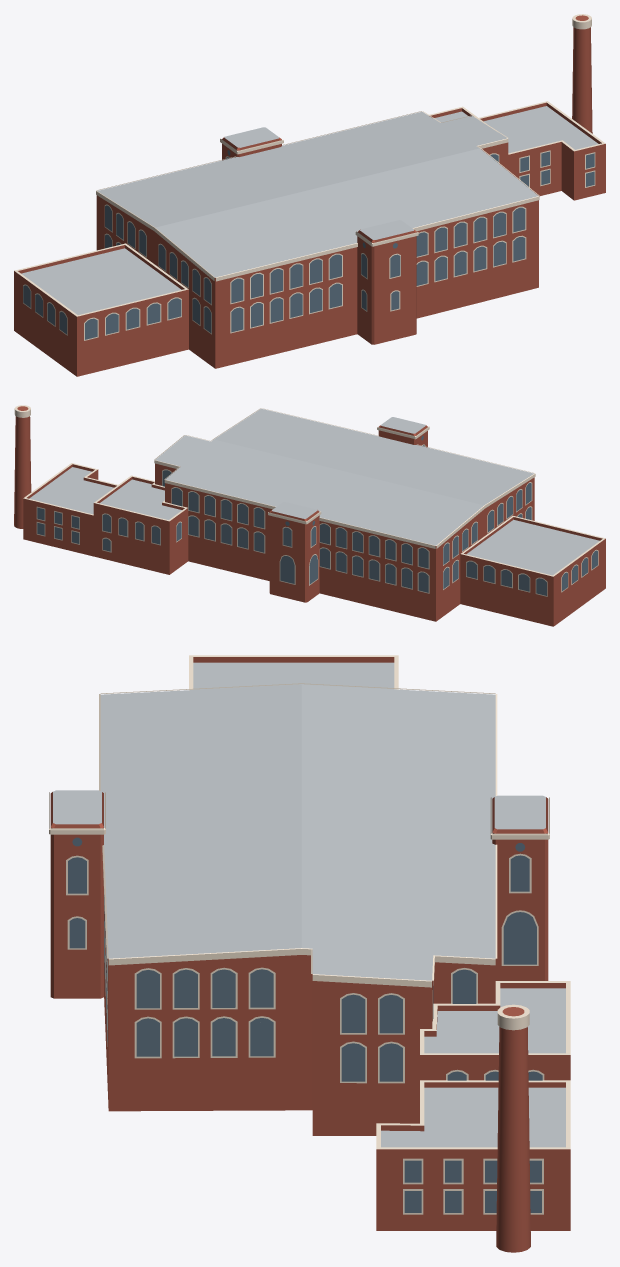
The model's file is clt-noda-mills.glb.
3 renders of one model, top to bottom at view 1: azimuth 30°, elevation 25°; view 2: azimuth 150°, elevation 25°; view 3: azimuth 270°, elevation 25°, orthographic. The views are drawn at different scales.
Parts seen in each view (by area): view 1: Mecklenburg Mill (Lofts at NoDa Mills); view 2: Mecklenburg Mill (Lofts at NoDa Mills); view 3: Mecklenburg Mill (Lofts at NoDa Mills).
Boxes of the visible parts, box(x1,y1,x2,y2) form: Mecklenburg Mill (Lofts at NoDa Mills): box(14, 14, 605, 376); Mecklenburg Mill (Lofts at NoDa Mills): box(14, 405, 605, 626); Mecklenburg Mill (Lofts at NoDa Mills): box(49, 655, 570, 1252).
Size of the model in its own units: 106 by 23.1 by 46.8.
